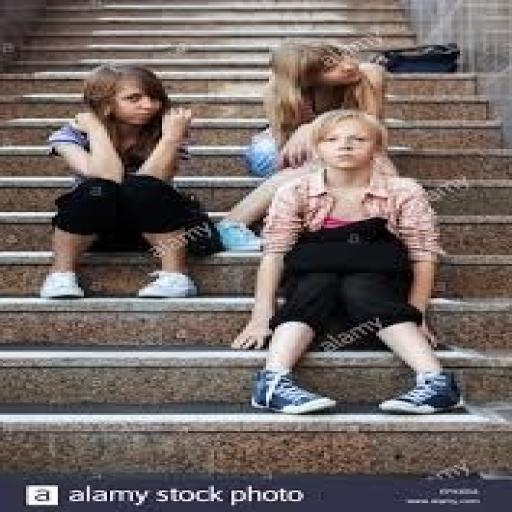sitting: (228, 108, 468, 415), (34, 61, 222, 300), (214, 36, 396, 251)
